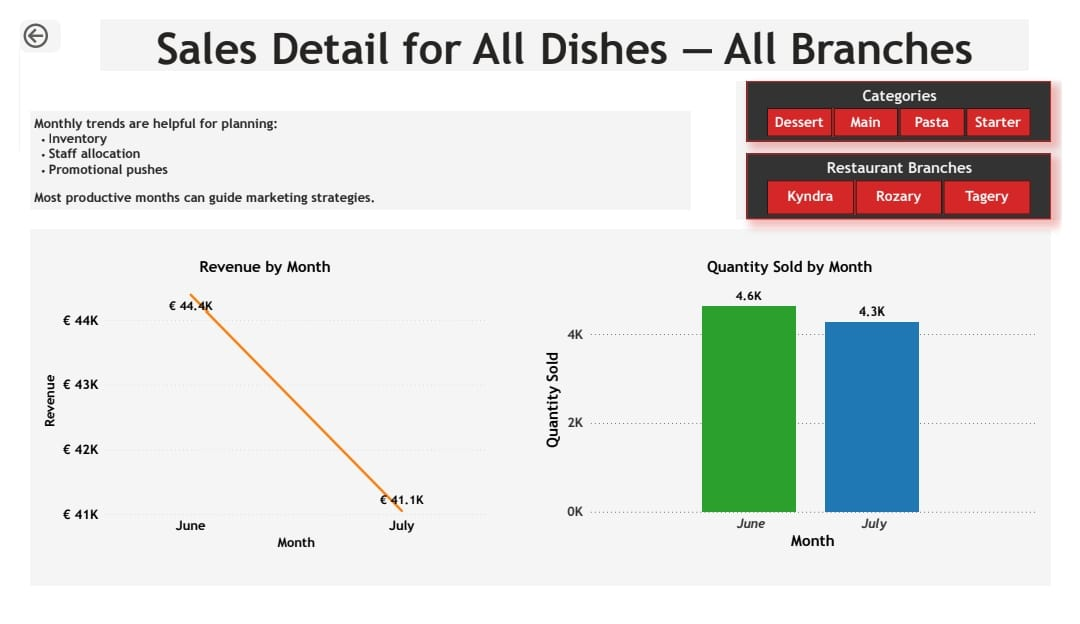

The dashboard page shown, as its layout file describes it:
{"tool":"powerbi","page":{"name":" Dish Detail View","canvas":[1280,720],"ordinal":4},"visuals":[{"type":"shape","box":[879.5,75.8,400.5,170.3],"z":0},{"type":"shape","box":[0,0,50.6,41.2],"z":1000},{"type":"shape","box":[13.3,258.1,1253.4,437.8],"z":2000},{"type":"actionButton","box":[0,0,100,40],"z":3000},{"type":"lineChart","fields":{"Y":["Sum(cleaned_sales_data_maslow.Revenue)"],"Category":["cleaned_sales_data_maslow.Month"]},"box":[25.3,292.7,553.5,363.3],"z":4000},{"type":"columnChart","fields":{"Y":["Sum(cleaned_sales_data_maslow.Quantity_Sold)"],"Category":["cleaned_sales_data_maslow.Month"]},"box":[640,292.7,612.1,363.3],"z":5000},{"type":"card","fields":{"Values":["cleaned_sales_data_maslow.PageTitle"]},"box":[99.8,0,1140.3,62.5],"z":6000},{"type":"slicer","title":"Restaurant Branches","fields":{"Values":["cleaned_sales_data_maslow.Restaurant"]},"box":[892.8,165,373.9,81.2],"z":7000},{"type":"slicer","title":"Categories","fields":{"Values":["cleaned_sales_data_maslow.Category"]},"box":[892.8,75.8,373.9,74.5],"z":8000},{"type":"textbox","box":[13.3,113.1,810.3,121.1],"z":9000}]}

Visuals, with their boxes on the page's 1280x720 design canvas (x1, y1, x2, y2). These are canvas units, not pixel positions in the 1080x624 screenshot, which may show the page scaled, cropped or inside an application window:
shape: (880,76,1280,246)
shape: (0,0,51,41)
shape: (13,258,1267,696)
actionButton: (0,0,100,40)
lineChart - Sum(cleaned_sales_data_maslow.Revenue) x cleaned_sales_data_maslow.Month: (25,293,579,656)
columnChart - Sum(cleaned_sales_data_maslow.Quantity_Sold) x cleaned_sales_data_maslow.Month: (640,293,1252,656)
card - cleaned_sales_data_maslow.PageTitle: (100,0,1240,62)
"Restaurant Branches" slicer: (893,165,1267,246)
"Categories" slicer: (893,76,1267,150)
textbox: (13,113,824,234)
